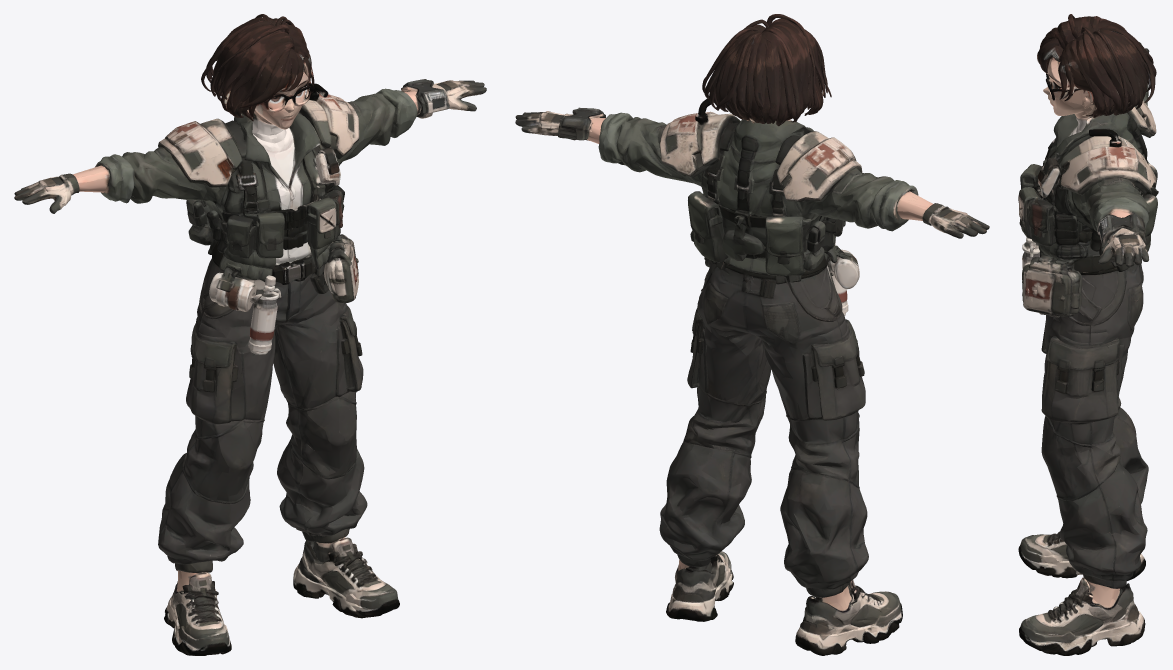
File: operator_sage_v2.glb
3 renders of one model, left to right at view 1: azimuth 30°, elevation 25°; view 2: azimuth 150°, elevation 25°; view 3: azimuth 270°, elevation 25°, orthographic. The views are drawn at different scales.
Size of the model in its own units: 1.55 by 1.9 by 0.4095.
Materials: 1 (1 with a texture image).
